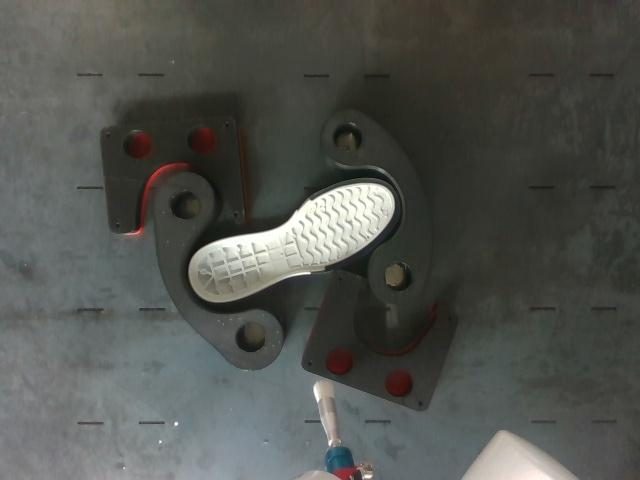shoes: (189, 180, 399, 303)
